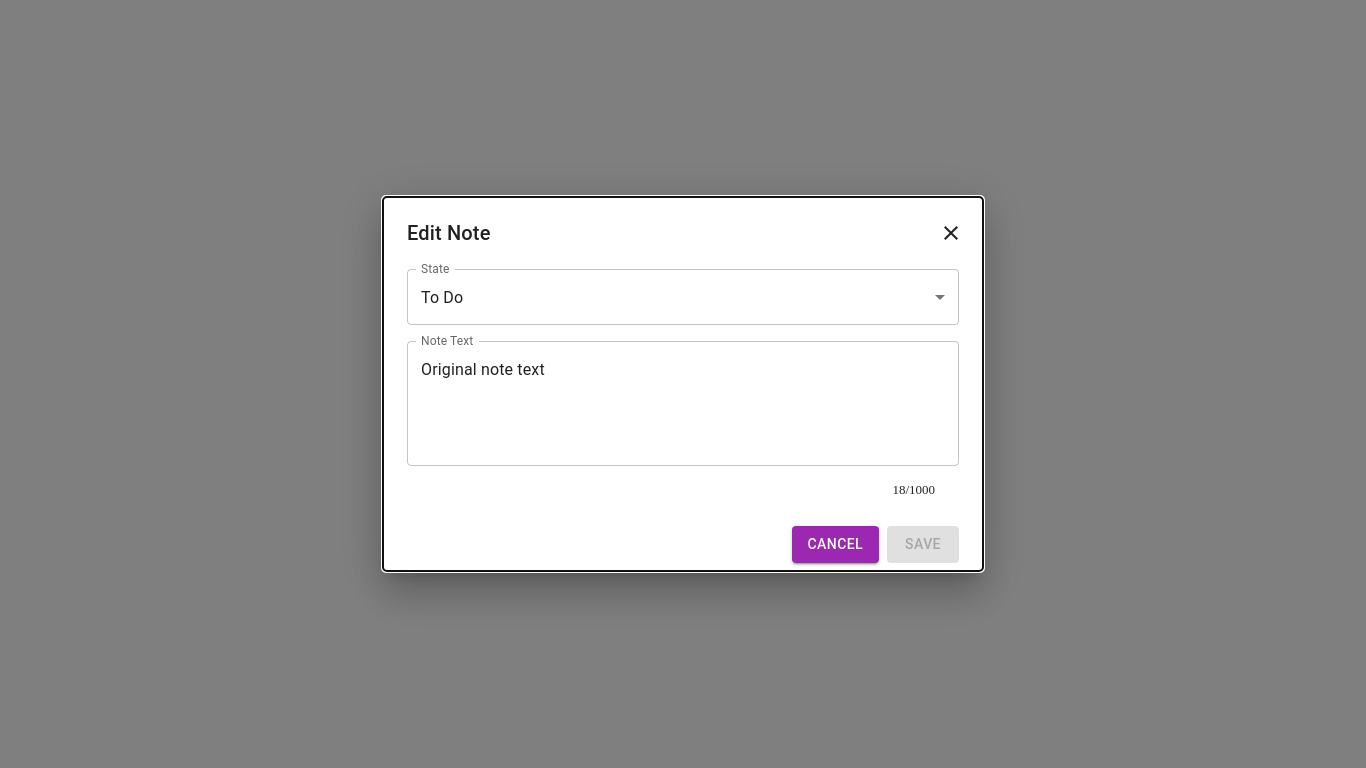
Test: EditNoteModal › Form field interactions › allows changing note state
Click the dropdown named "State". click: (442, 297)
box: [421,288,463,307]
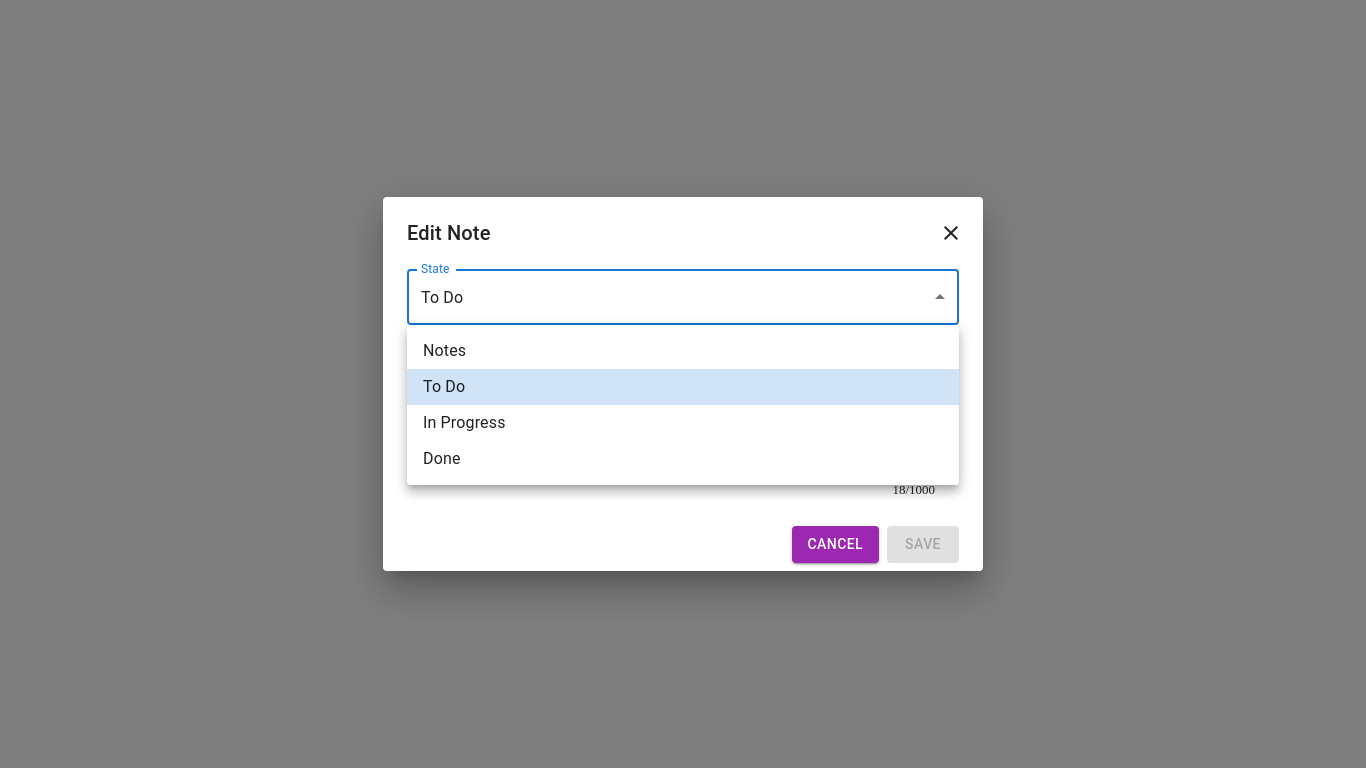
Check: the option "Done" is shown
Click the option "Done". click: (442, 458)
box: [423,449,460,468]
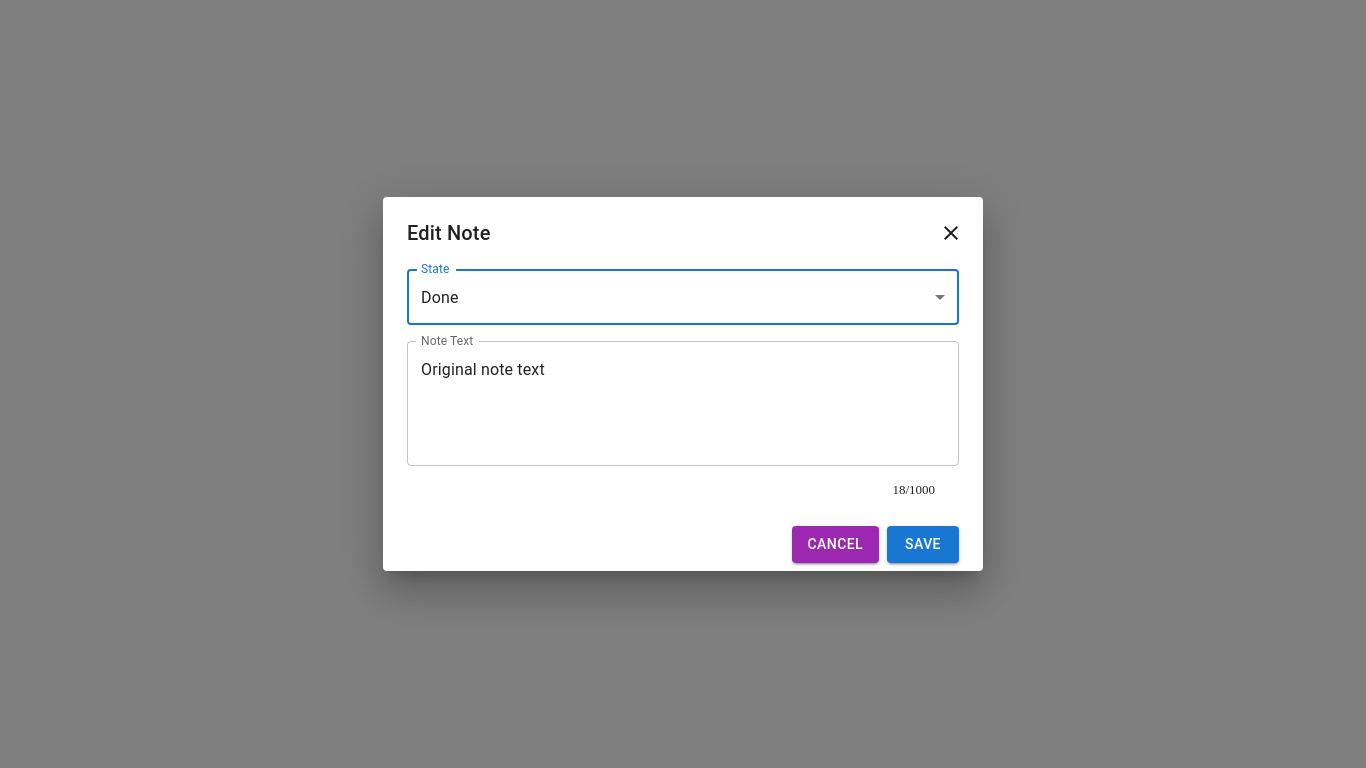
Check: the dropdown named "State" reads "Done", box [421,288,458,307]
